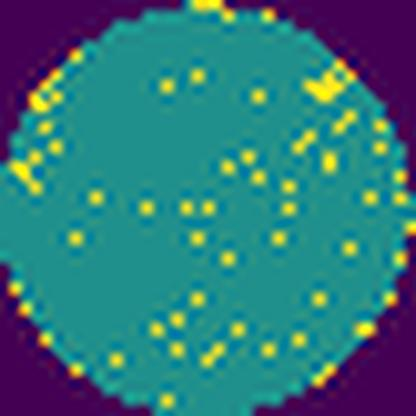Loc: (306, 60, 353, 103)
